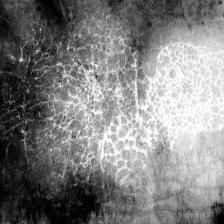Benign Marking or Mole: (0, 30, 224, 179)
